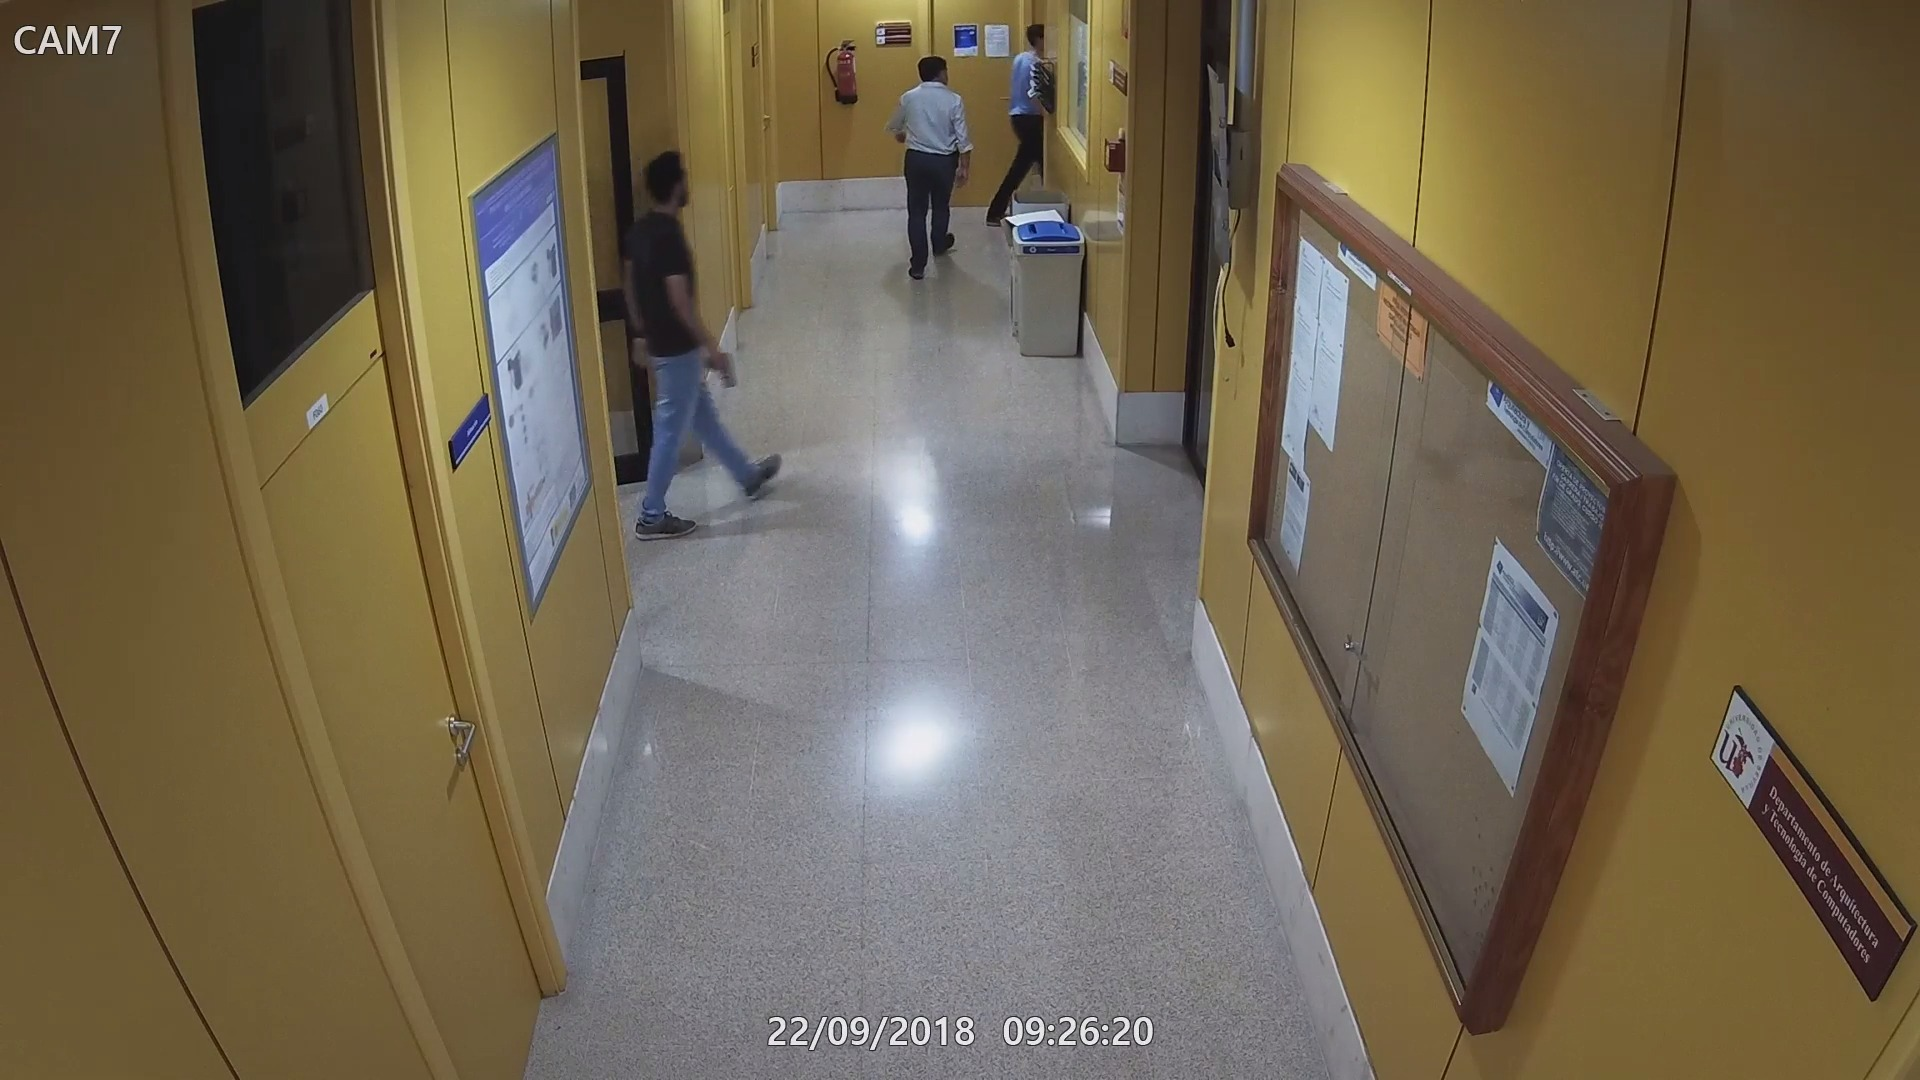Handgun: (703, 348, 738, 392)
